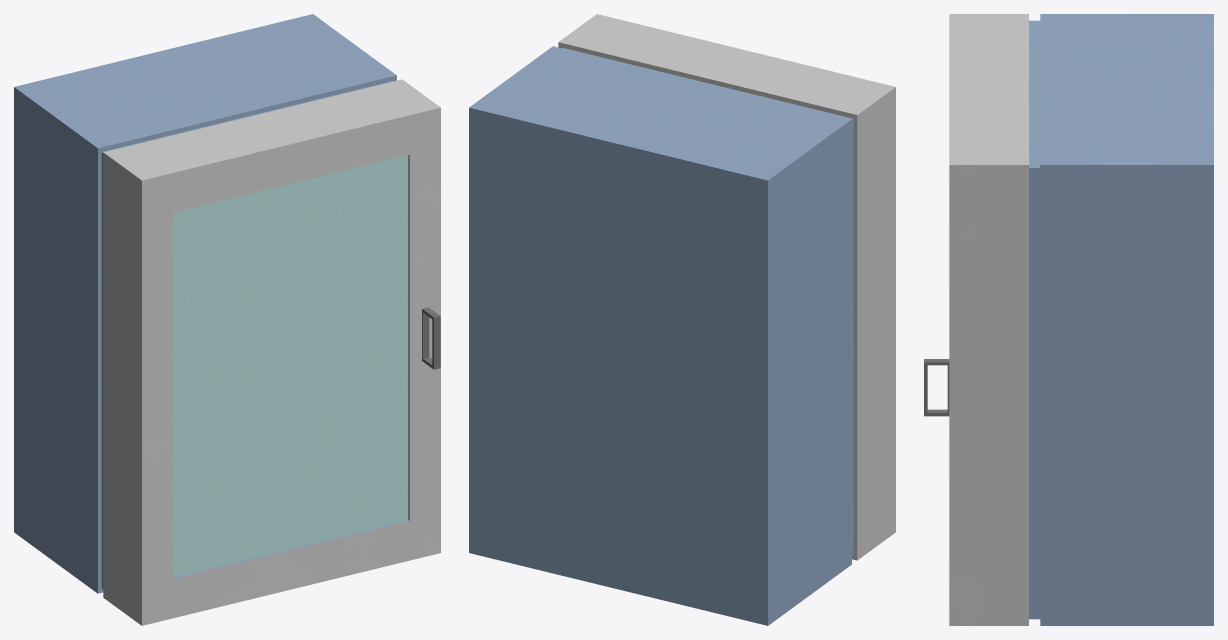
Rendered from Mirror_03_03.fbx.
The picture shows the model from 3 angles, left to right: view 1: azimuth 30°, elevation 25°; view 2: azimuth 150°, elevation 25°; view 3: azimuth 270°, elevation 25°; orthographic projection. The views are drawn at different scales.
Parts seen in each view (by area): view 1: Mirror_03_03; view 2: Mirror_03_03; view 3: Mirror_03_03.
Boxes of the visible parts, bbox=[...] form: Mirror_03_03: bbox=[14, 14, 440, 625]; Mirror_03_03: bbox=[469, 14, 895, 625]; Mirror_03_03: bbox=[924, 14, 1213, 625].
Bounding box in the file's own units: 0.7629 × 1.09 × 0.6188.
